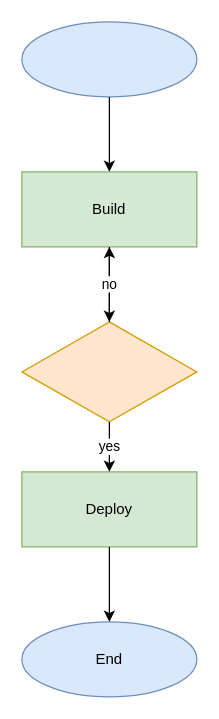
Some shapes in this 219 by 719 pixel diagram are drawn without their labels. Each missing label, with the centre of its shape:
"Start" goes at point 109,59.
"Tests pass?" goes at point 109,371.
